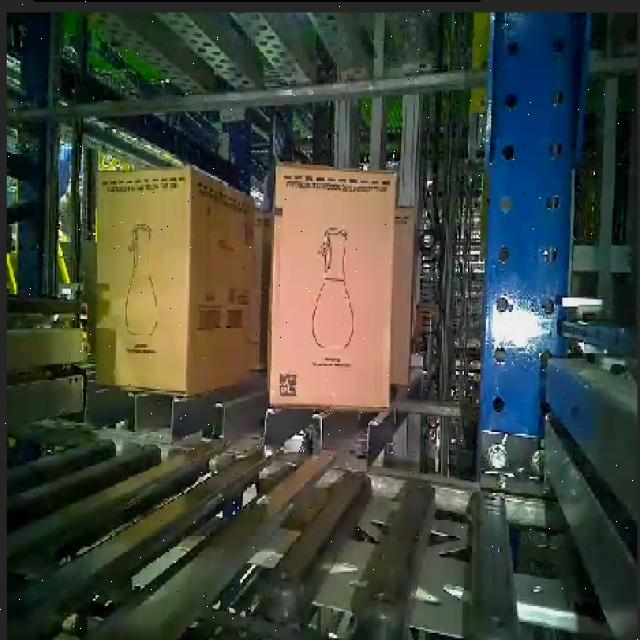box: (270, 164, 397, 413)
